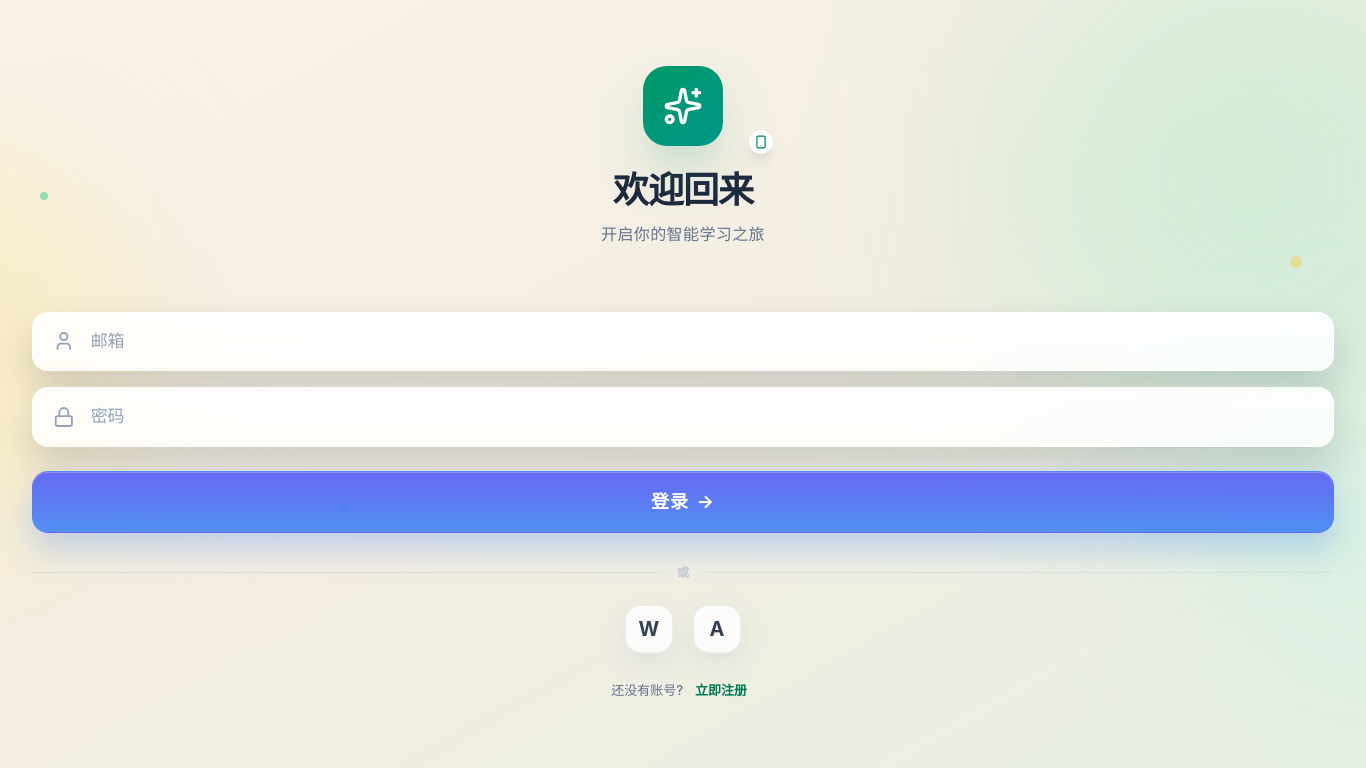
Scenario: Auth - Login › shows loading state during login
The width and height of the screenshot is (1366, 768).
Type "test@example.com" into the field with placeholder "邮箱" at (694, 341), box [75,328,1313,354]
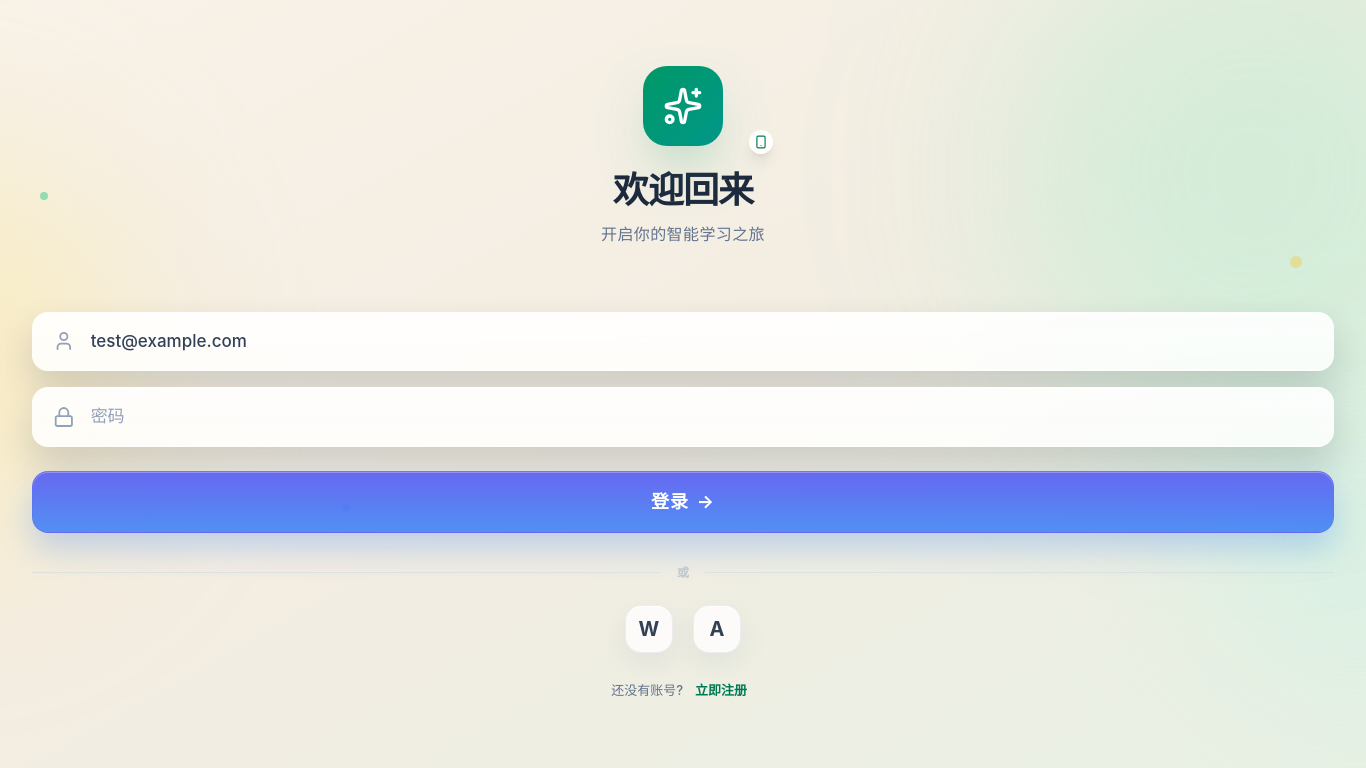
Type "password123" into the password field with placeholder "密码" at (694, 417), box [75,404,1313,430]
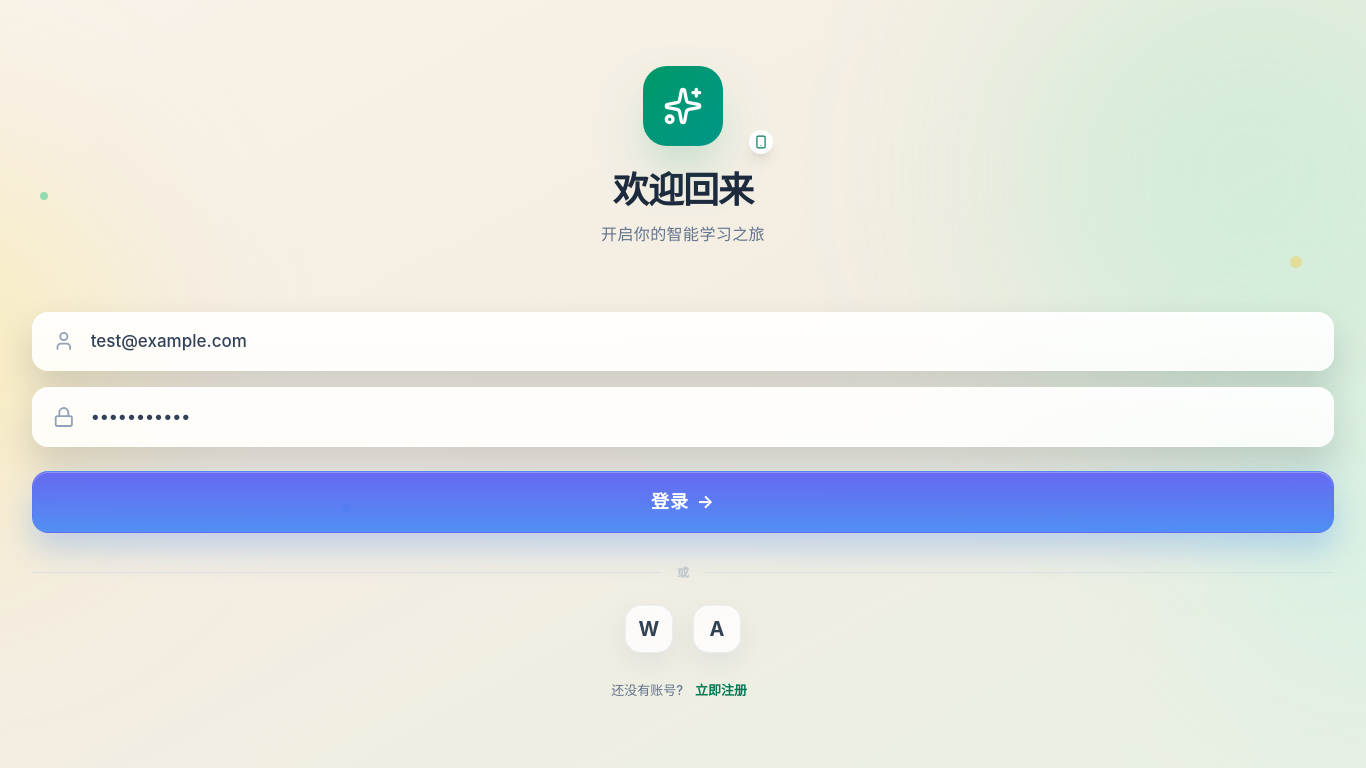
# Click the submit button
Click the button "登录 →" at (683, 502), box [32,470,1334,532]
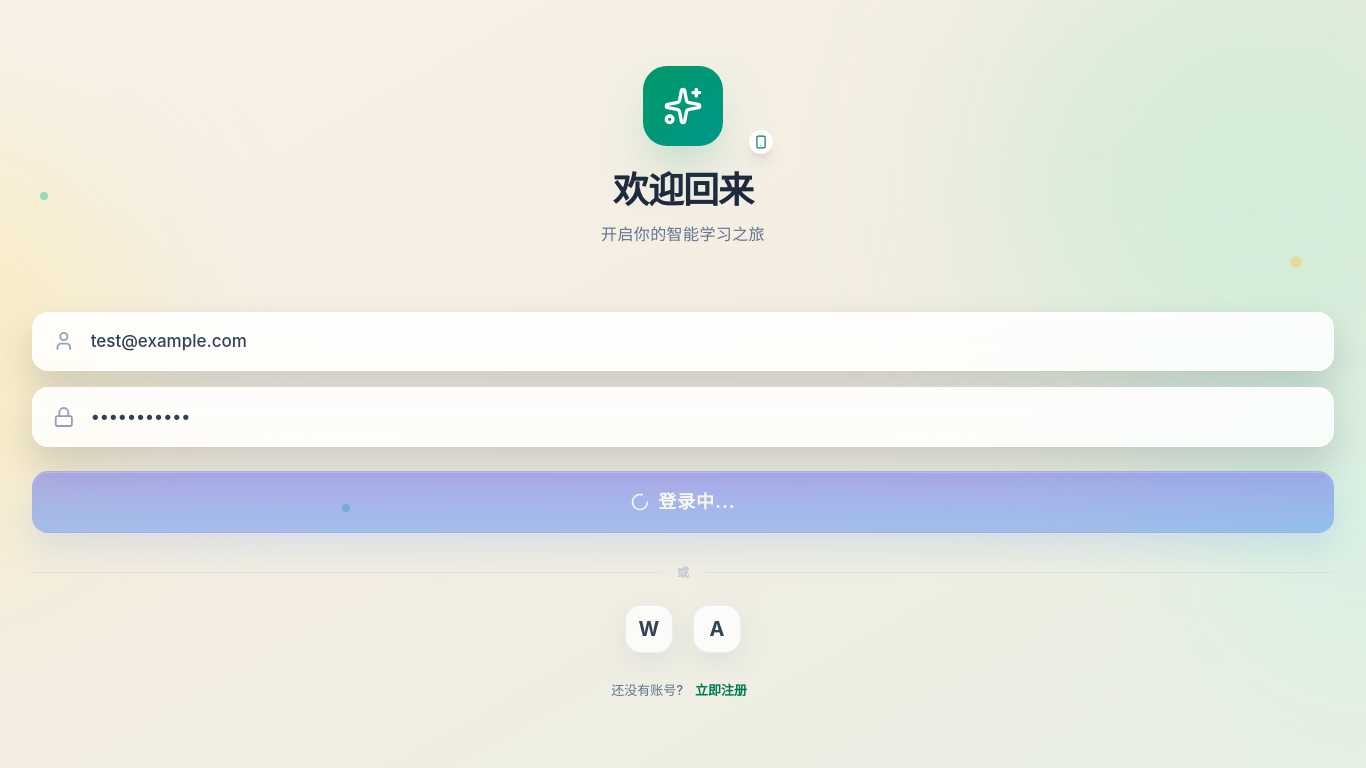
Result: the button "登录中..." is disabled at [32,470,1334,532]
